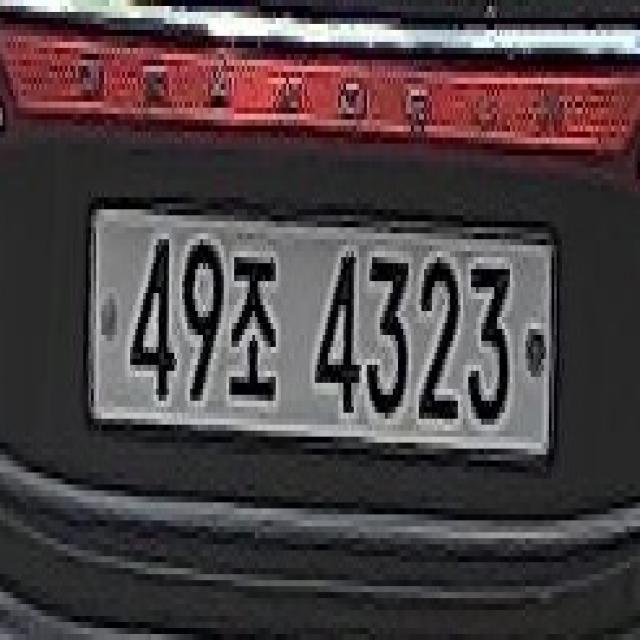2: (422, 241, 460, 433)
3: (470, 258, 520, 422), (365, 250, 409, 422)
4: (316, 238, 362, 421), (132, 238, 174, 408)
9: (182, 241, 225, 409)
jo: (228, 249, 284, 411)
license_plate: (70, 184, 568, 476)
